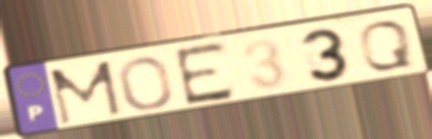3: (297, 25, 354, 85), (241, 36, 289, 91)
E: (171, 38, 239, 109)
M: (46, 58, 126, 128)
O: (116, 55, 176, 112)
Q: (356, 18, 417, 73)
